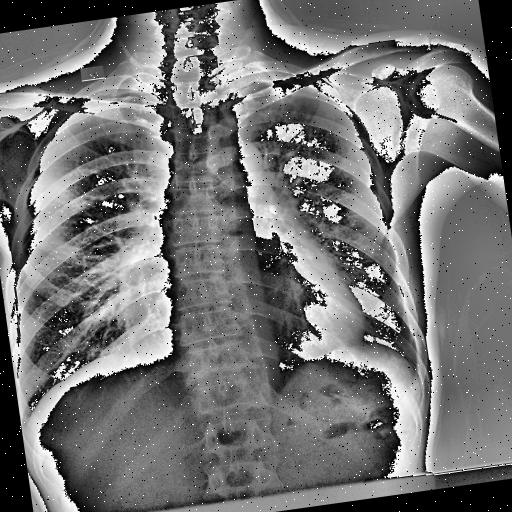11- Pleural thickening: (218, 62, 318, 128), (221, 58, 318, 98), (233, 67, 308, 93), (80, 80, 151, 102), (98, 86, 146, 100)
13- Pulmonary fibrosis: (256, 86, 312, 130), (257, 83, 305, 125), (254, 93, 304, 133)
8- Nodule-Mass: (356, 243, 376, 260)
